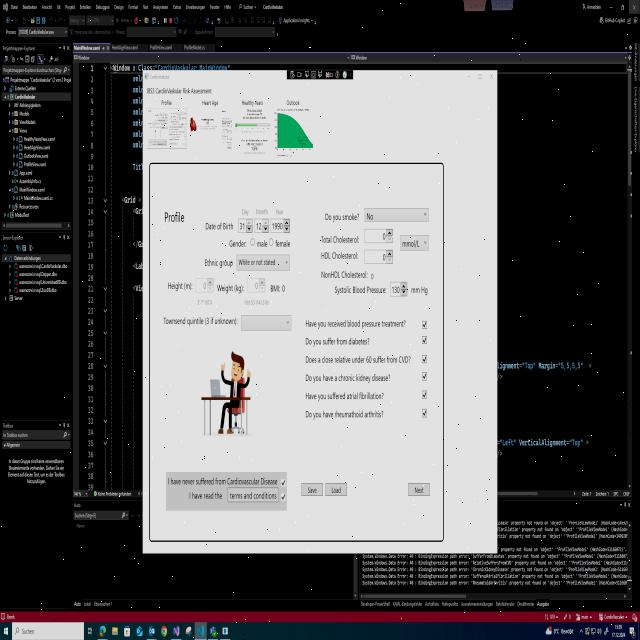button: (226, 485, 280, 504), (406, 478, 432, 500), (324, 480, 349, 500), (301, 480, 324, 499), (484, 72, 496, 84), (474, 71, 484, 83), (464, 71, 474, 82)
checkbox: (420, 406, 428, 421), (421, 352, 428, 366), (421, 318, 428, 331), (421, 370, 428, 383), (280, 475, 287, 488), (421, 389, 428, 401), (280, 492, 287, 503), (422, 336, 428, 346)
dropdownMenu: (363, 204, 431, 227), (238, 312, 292, 336), (235, 252, 292, 274), (399, 231, 431, 252)
input: (12, 623, 84, 640)
label: (303, 314, 409, 331), (304, 352, 414, 368), (166, 473, 280, 486), (304, 370, 395, 385), (162, 313, 239, 330), (302, 408, 388, 422), (303, 391, 388, 404), (318, 267, 379, 283), (330, 283, 389, 298), (304, 333, 372, 346), (146, 85, 214, 96), (320, 231, 360, 246), (322, 208, 361, 223), (163, 208, 192, 227), (318, 248, 359, 260), (188, 488, 222, 502), (203, 219, 234, 234), (203, 256, 234, 270), (166, 278, 192, 294), (217, 281, 246, 295), (237, 96, 268, 108), (410, 281, 431, 298), (243, 298, 270, 308), (274, 237, 294, 250), (269, 281, 289, 294), (226, 238, 249, 249), (281, 96, 303, 107), (195, 296, 215, 307), (252, 204, 270, 216), (150, 72, 172, 81), (198, 98, 220, 107), (159, 99, 176, 108), (256, 238, 268, 250), (273, 206, 285, 217), (240, 205, 250, 218)
radio: (248, 233, 257, 253), (268, 234, 276, 251)
upDown: (363, 246, 395, 266), (364, 227, 394, 244), (194, 276, 215, 296), (246, 275, 267, 295), (389, 278, 409, 298), (270, 217, 292, 234), (237, 217, 253, 234), (253, 218, 270, 234)
